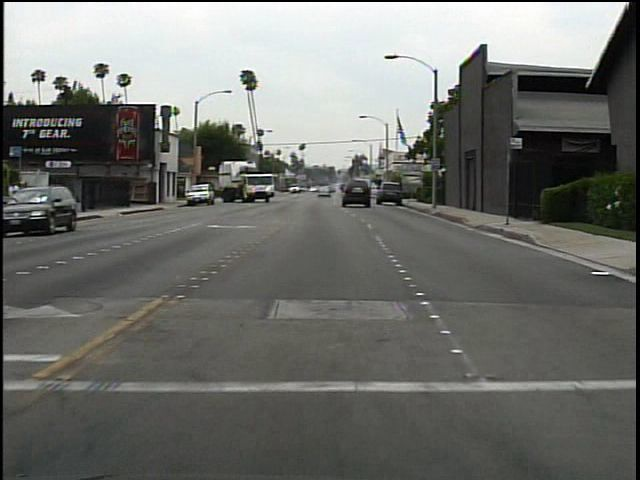person: (8, 176, 31, 222)
